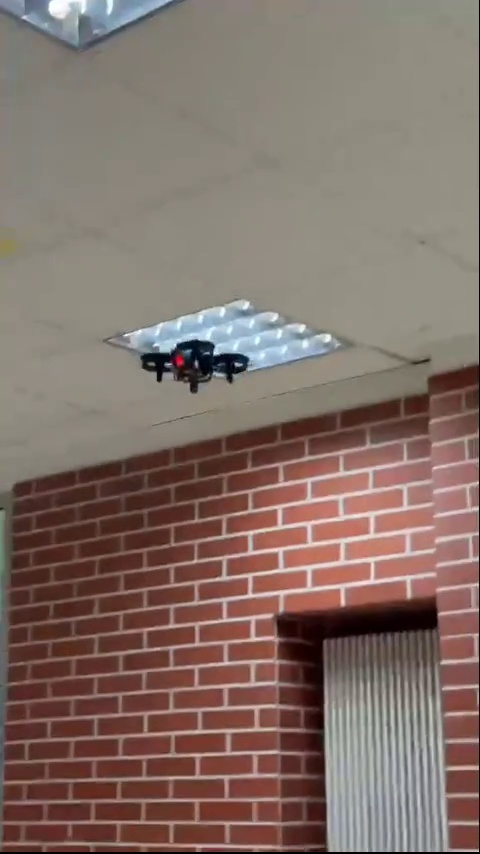drone: (136, 339, 252, 394)
